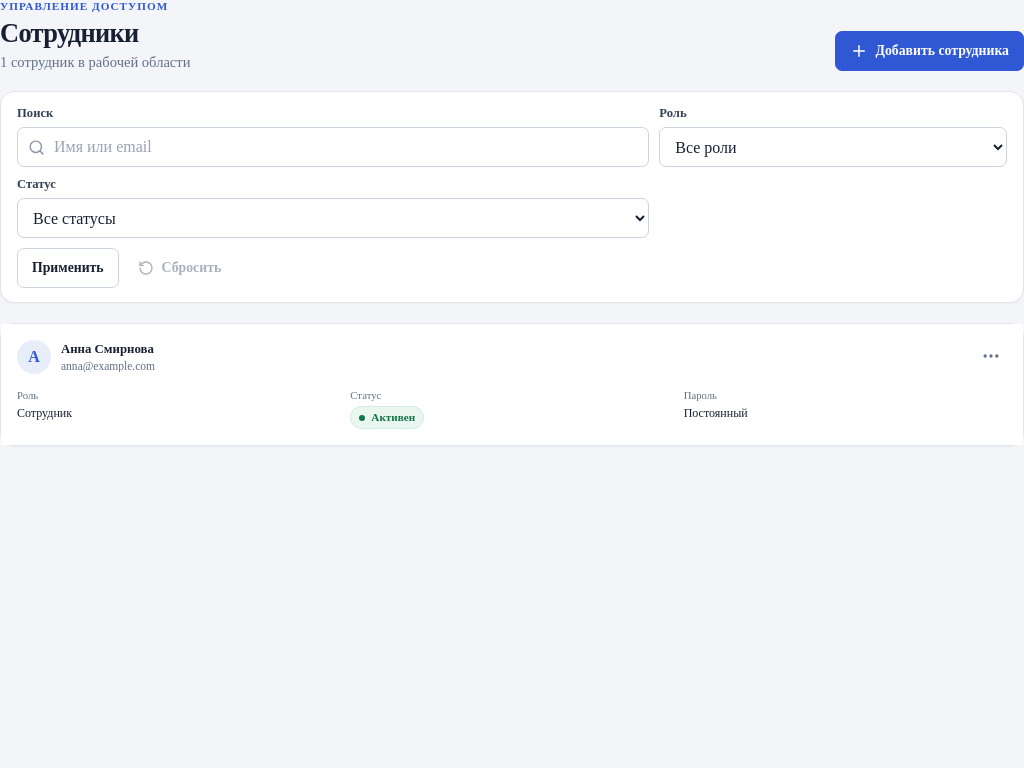
Test: UsersPage › creates a user and shows the one-time password result
Step 1. Click the button "Добавить сотрудника" → click(929, 51), box [834,31,1023,71]
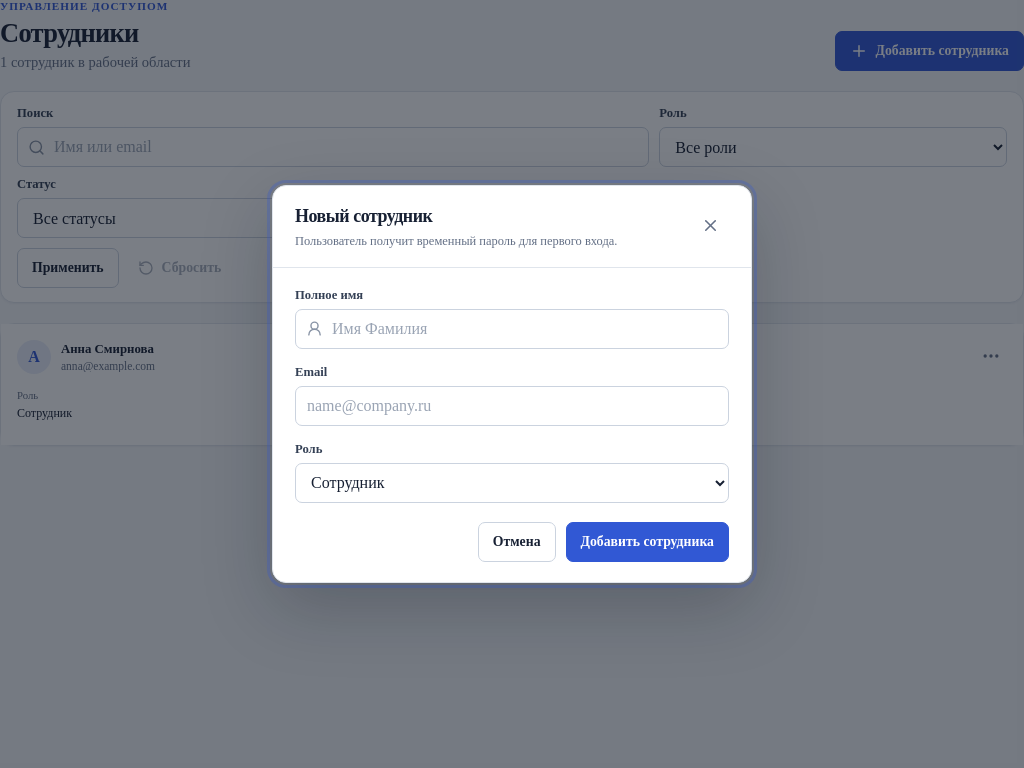
Step 2. Type "Анна Смирнова" into the field labelled "Полное имя" → (512, 328), box [295,308,729,348]
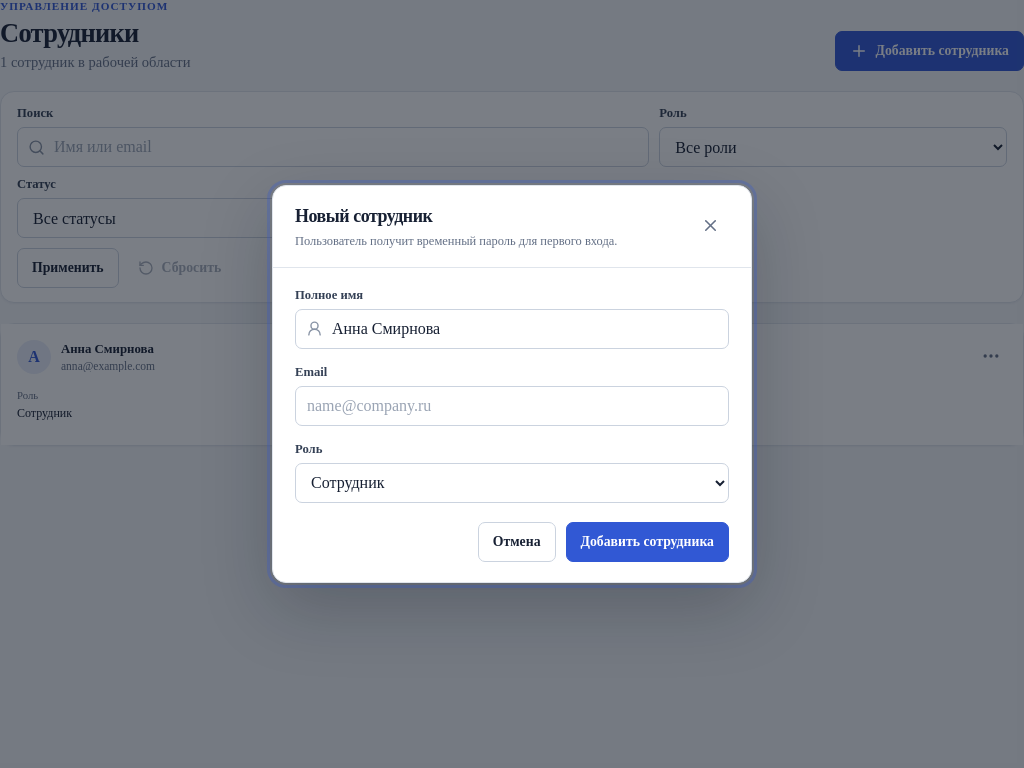
Step 3. Type "anna@example.com" into the field labelled "Email" → (512, 406), box [295,386,729,426]
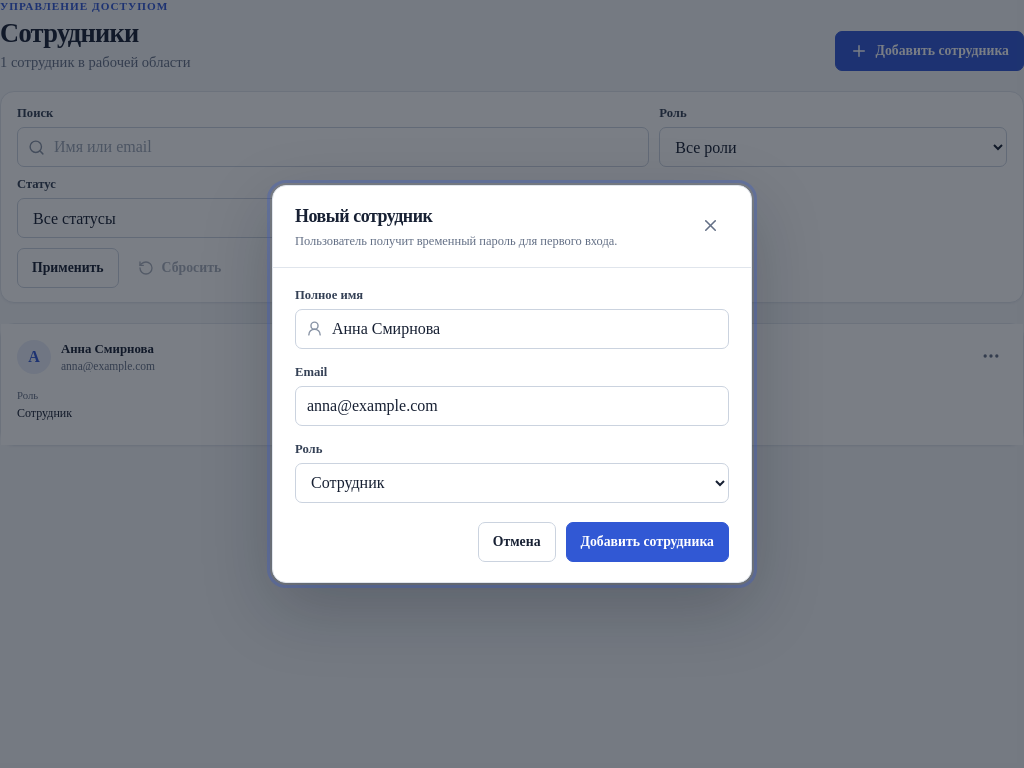
Step 4. Click the button "Добавить сотрудника" → click(647, 542), box [566,522,729,562]
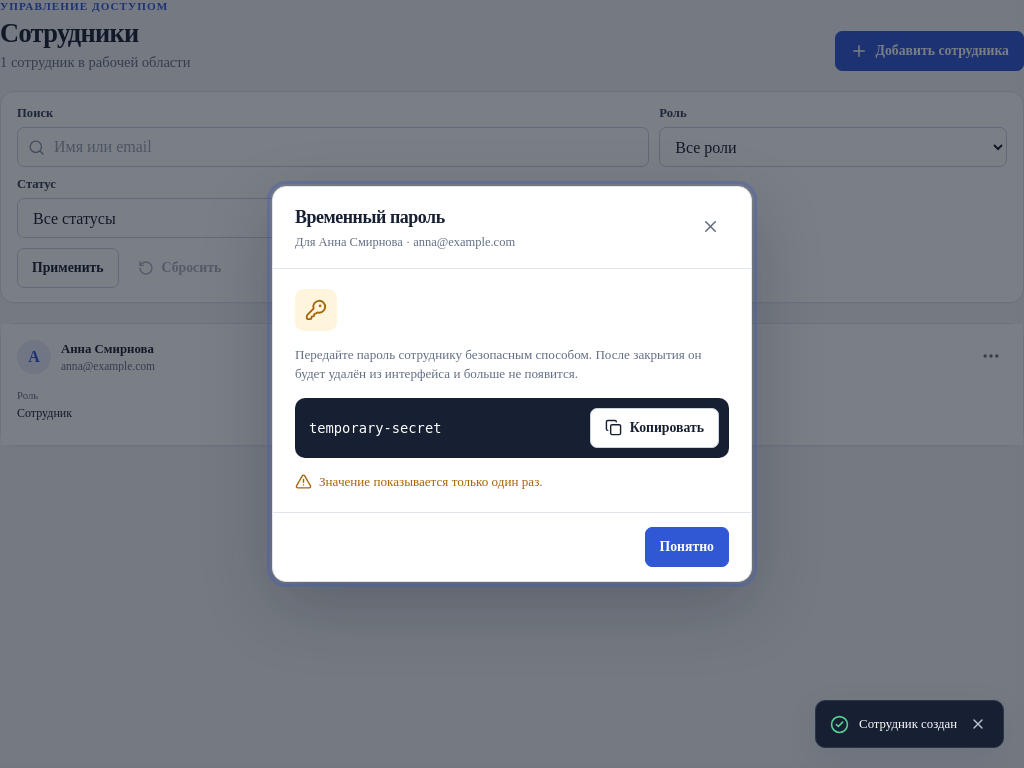
Expected: the text "temporary-secret" is shown, [305,420,442,436]
